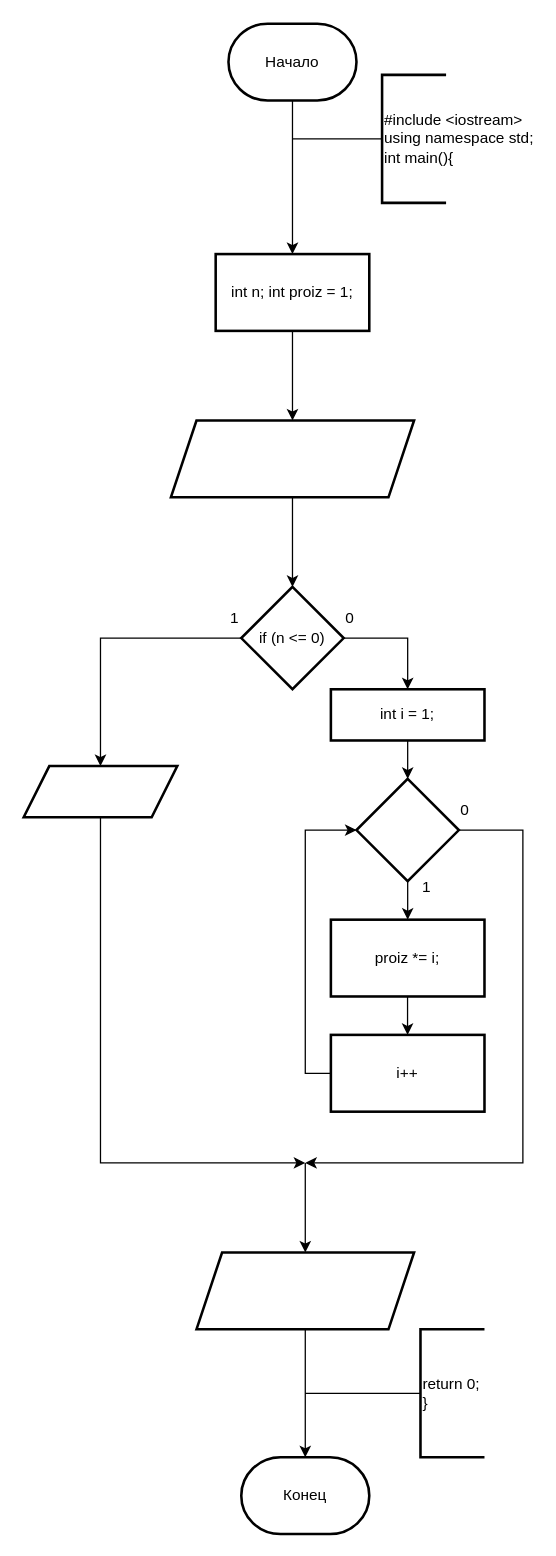
Some shapes in this 556 by 1556 pixel diagram are drawn without their labels. The shapes that lost their labels are listed below. From the top down, each one's centre as x and y in pixels, then its label:
the point at 292,458: cin >> n;
the point at 100,791: cout << endl;
the point at 407,829: i <= n;
the point at 305,1290: cout << sum << endl;
